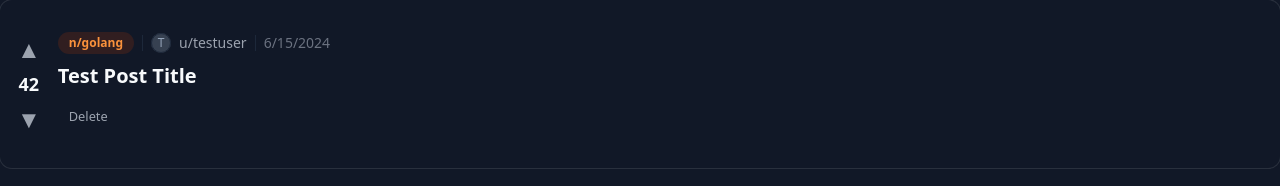
Test: PostCard › vote buttons disabled after voting
The image size is (1280, 186).
Click the button "▲".
click(29, 49)  # box x1=16 y1=32 x2=42 y2=66
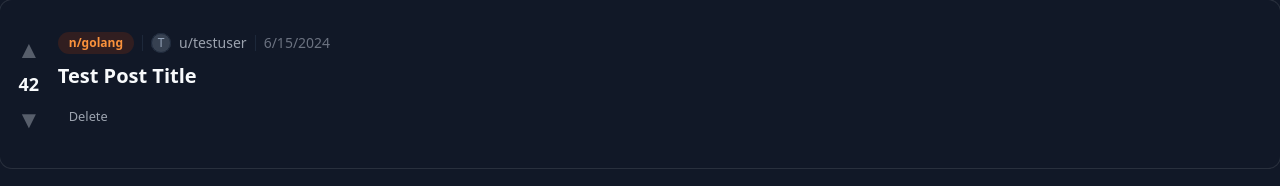
Expected: the button "▲" is disabled, x1=16 y1=32 x2=42 y2=66
